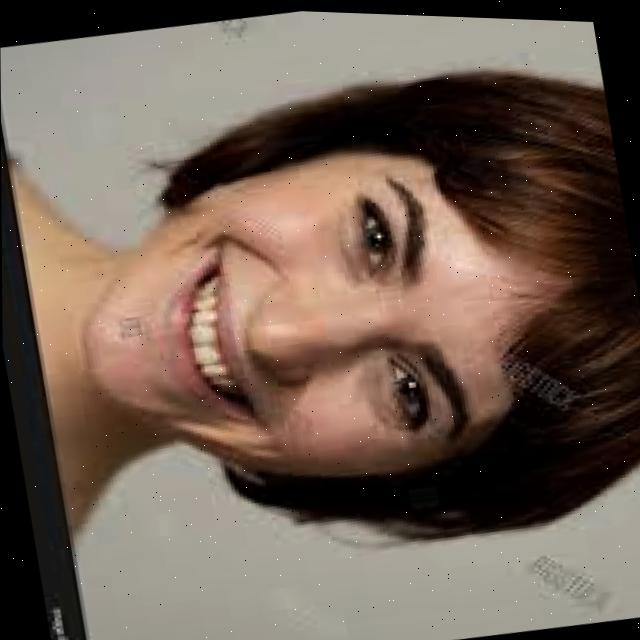happy: (31, 81, 635, 512)
